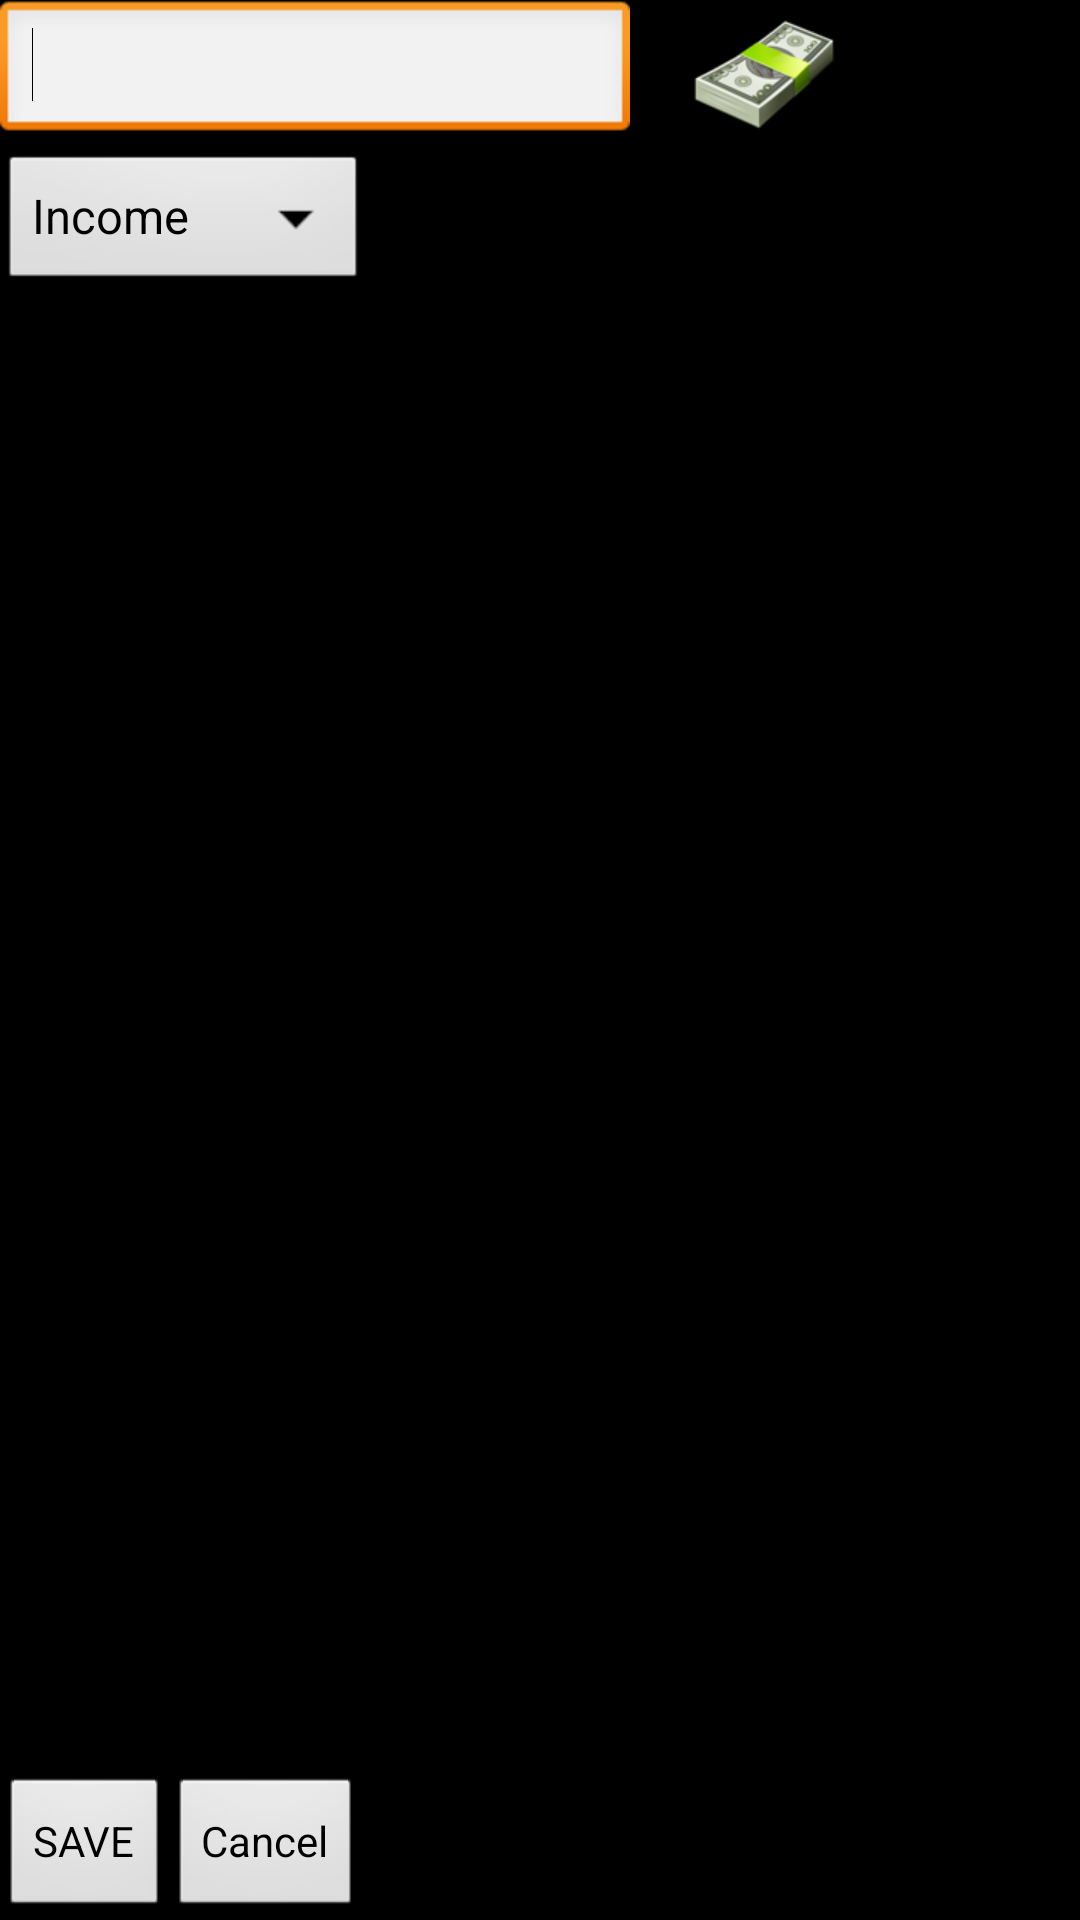

Screen size 1080 × 1920. Icon name, then its box in pixels as (left=x1, top=y1, right=x2, bottom=y2):
cash: (left=694, top=21, right=834, bottom=128)
